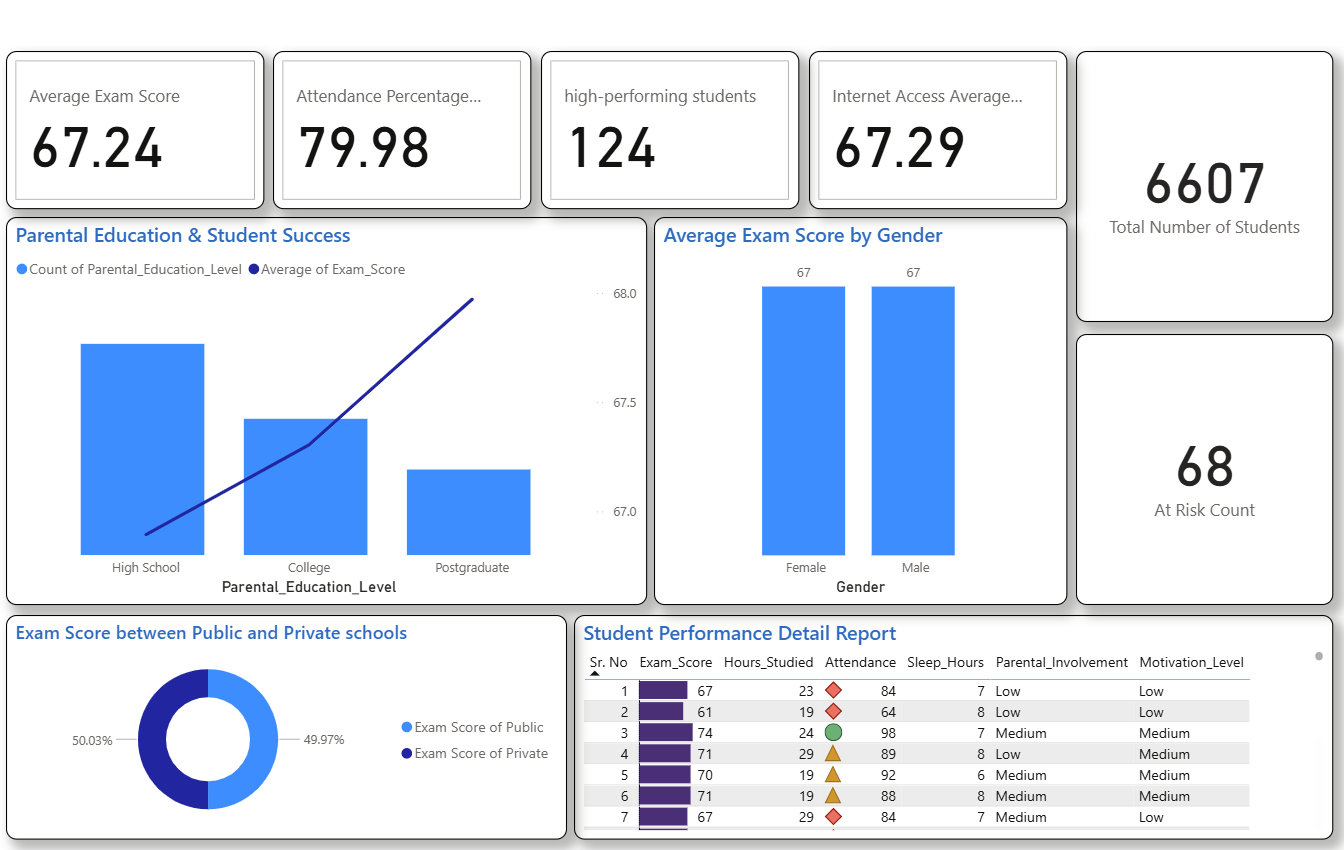

What the dashboard file says about the page in this screenshot:
{"tool":"powerbi","page":{"name":"Page 2","canvas":[1280,770],"ordinal":1},"visuals":[{"type":"lineClusteredColumnComboChart","title":"Parental Education & Student Success","fields":{"Y2":["Avg(StudentPerformanceFactors.Exam_Score)"],"Category":["StudentPerformanceFactors.Parental_Education_Level"],"Y":["CountNonNull(StudentPerformanceFactors.Parental_Education_Level)"]},"box":[9.1,168.3,607.7,367.9],"z":0},{"type":"tableEx","title":"Student Performance Detail Report","fields":{"Values":["StudentPerformanceFactors.Sr. No","StudentPerformanceFactors.Exam_Score","StudentPerformanceFactors.Hours_Studied","StudentPerformanceFactors.Attendance","StudentPerformanceFactors.Sleep_Hours","StudentPerformanceFactors.Parental_Involvement","StudentPerformanceFactors.Motivation_Level"]},"box":[548.3,545.3,719.6,212.7],"z":1000},{"type":"cardVisual","fields":{"Data":["StudentPerformanceFactors.Average Exam Score"]},"box":[9.1,10.1,245,150],"z":2000},{"type":"card","title":"Total Number of Students","fields":{"Values":["StudentPerformanceFactors.Ans -22"]},"box":[1024,10.1,243.9,257],"z":3000},{"type":"columnChart","title":"Average Exam Score by Gender","fields":{"Y":["StudentPerformanceFactors.Average Exam Score"],"Category":["StudentPerformanceFactors.Gender"]},"box":[623.9,168.3,392.1,367.9],"z":4000},{"type":"cardVisual","fields":{"Data":["StudentPerformanceFactors.ans 25"]},"box":[263.1,10.1,244.9,150.2],"z":5000},{"type":"cardVisual","fields":{"Data":["StudentPerformanceFactors.Ans 27"]},"box":[771,10.1,244.9,150.2],"z":6000},{"type":"donutChart","title":"Exam Score between Public and Private schools","fields":{"Y":["StudentPerformanceFactors.Exam Score of Public","StudentPerformanceFactors.Exam Score of Private"]},"box":[9.1,545.3,532.2,212.7],"z":7000},{"type":"cardVisual","fields":{"Data":["StudentPerformanceFactors.Ans 30 -"]},"box":[517,10.1,244.9,150.2],"z":8000},{"type":"card","title":"Total Number of Students","fields":{"Values":["StudentPerformanceFactors.At Risk Count"]},"box":[1024,279.2,243.9,257],"z":9000}]}

Visuals, with their boxes in screenshot pixels (x1, y1, x2, y2):
"Parental Education & Student Success" lineClusteredColumnComboChart: locate(0, 212, 634, 607)
"Student Performance Detail Report" tableEx: locate(561, 617, 1333, 845)
cardVisual - StudentPerformanceFactors.Average Exam Score: locate(0, 42, 245, 203)
"Total Number of Students" card: locate(1071, 42, 1333, 318)
"Average Exam Score by Gender" columnChart: locate(642, 212, 1063, 607)
cardVisual - StudentPerformanceFactors.ans 25: locate(254, 42, 517, 204)
cardVisual - StudentPerformanceFactors.Ans 27: locate(800, 42, 1063, 204)
"Exam Score between Public and Private schools" donutChart: locate(0, 617, 553, 845)
cardVisual - StudentPerformanceFactors.Ans 30 -: locate(527, 42, 790, 204)
"Total Number of Students" card: locate(1071, 331, 1333, 607)
